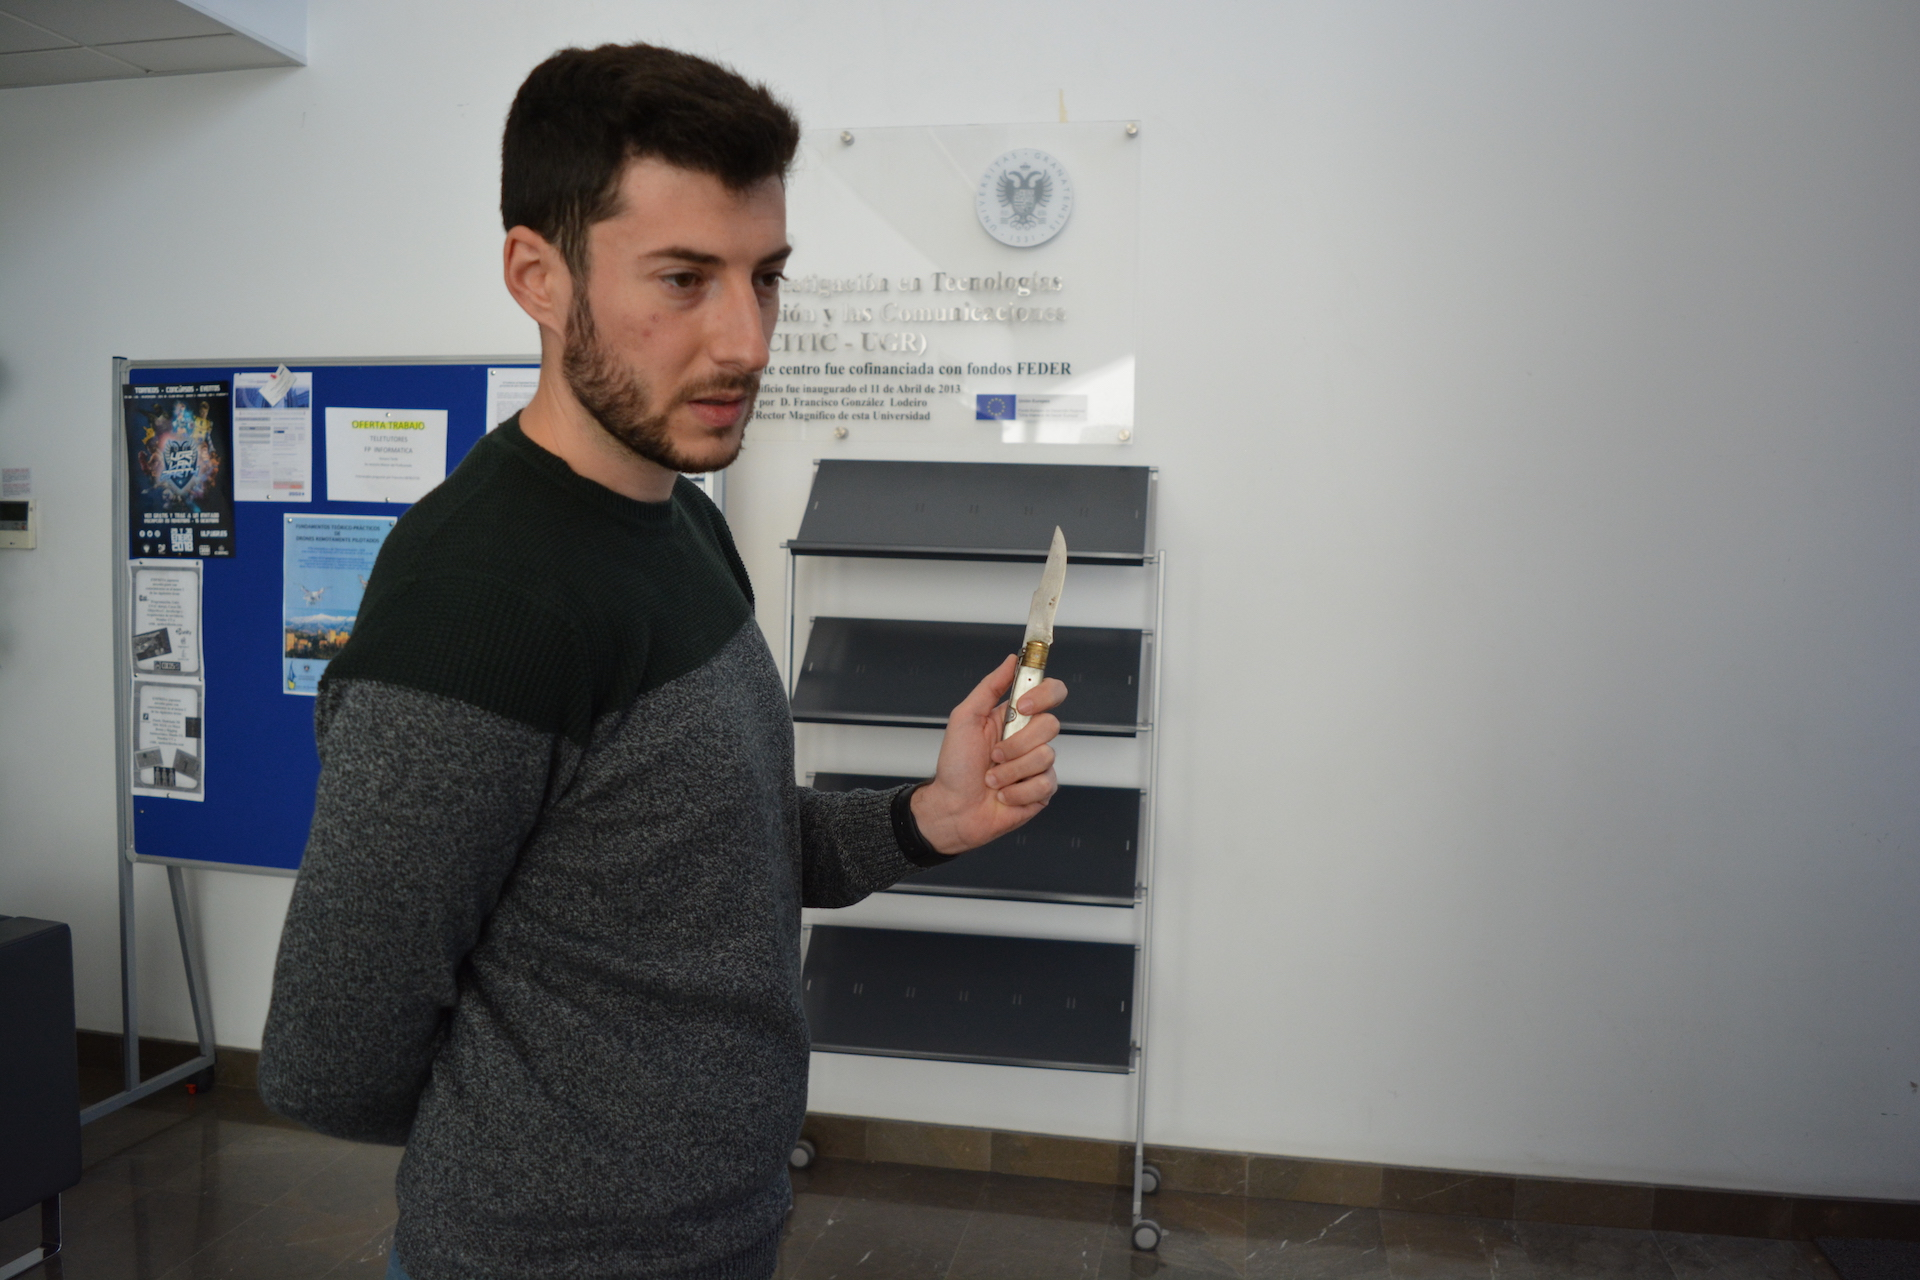knife: (989, 517, 1080, 756)
